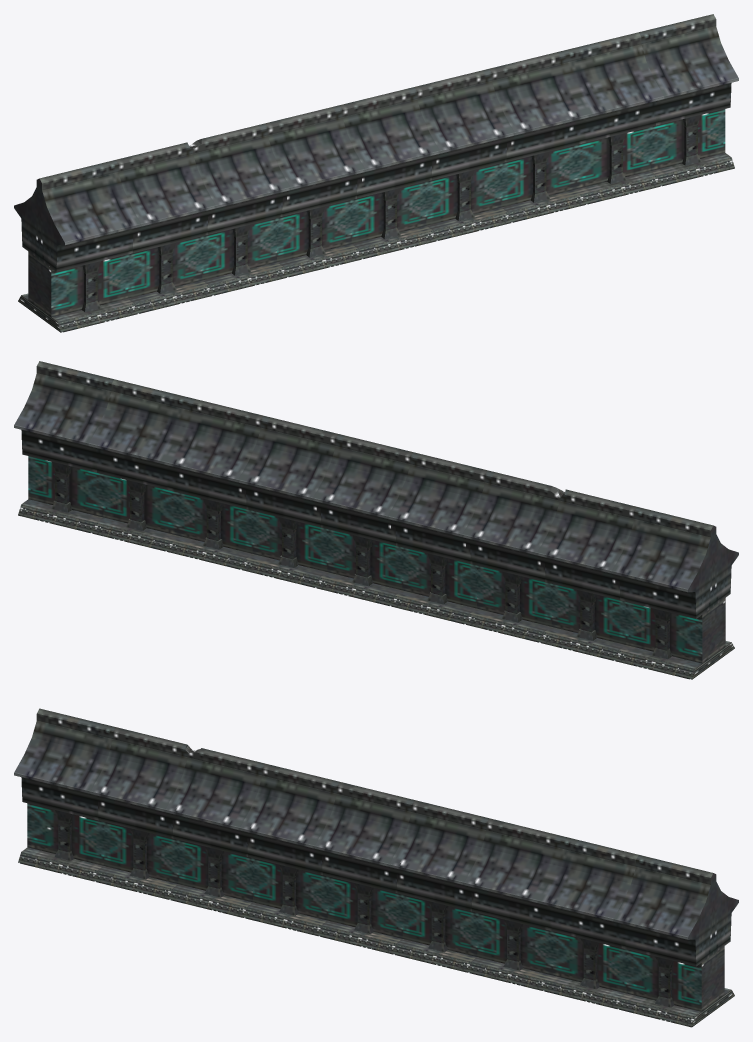
Rendered from 5st_wall_001.glb.
The picture shows the model from 3 angles, top to bottom: view 1: azimuth 30°, elevation 25°; view 2: azimuth 150°, elevation 25°; view 3: azimuth 330°, elevation 25°; orthographic projection.
Parts seen in each view (by area): view 1: 5st_wall_001; view 2: 5st_wall_001; view 3: 5st_wall_001.
Part boxes in pixels (x1,y1,x2,y2): 5st_wall_001: (14,14,738,332); 5st_wall_001: (14,361,738,679); 5st_wall_001: (14,708,738,1027).
Bounding box in the file's own units: 12.58 × 2.47 × 1.65.
Materials: 1 (1 with a texture image).
